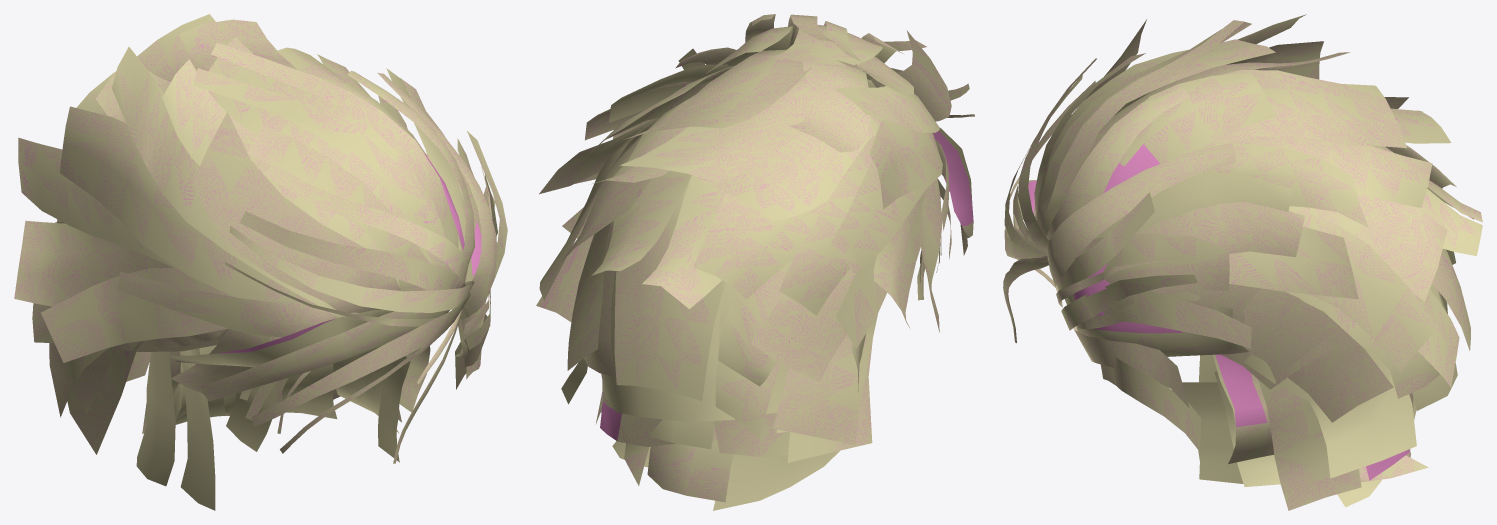
Rendered from TrumpWig.fbx.
3 views of the same model, side by side, from view 1: azimuth 30°, elevation 25°; view 2: azimuth 150°, elevation 25°; view 3: azimuth 270°, elevation 25° (orthographic). The views are drawn at different scales.
Parts seen in each view (by area): view 1: Object06, Object07; view 2: Object06, Object07; view 3: Object06, Object07.
Part boxes in pixels (left/top/right/bottom): Object06: left=14, top=14, right=507, bottom=510; Object07: left=15, top=20, right=505, bottom=462; Object06: left=536, top=14, right=974, bottom=510; Object07: left=540, top=15, right=973, bottom=500; Object06: left=1003, top=14, right=1482, bottom=510; Object07: left=1003, top=20, right=1482, bottom=509.
Bounding box in the file's own units: 177 × 184 × 190.
